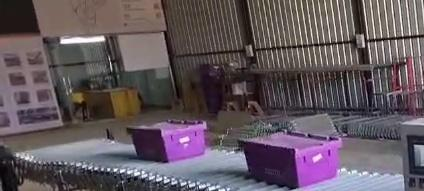box: (242, 132, 341, 187), (127, 120, 206, 161)
